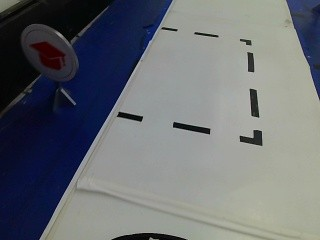school: (20, 26, 78, 86)
